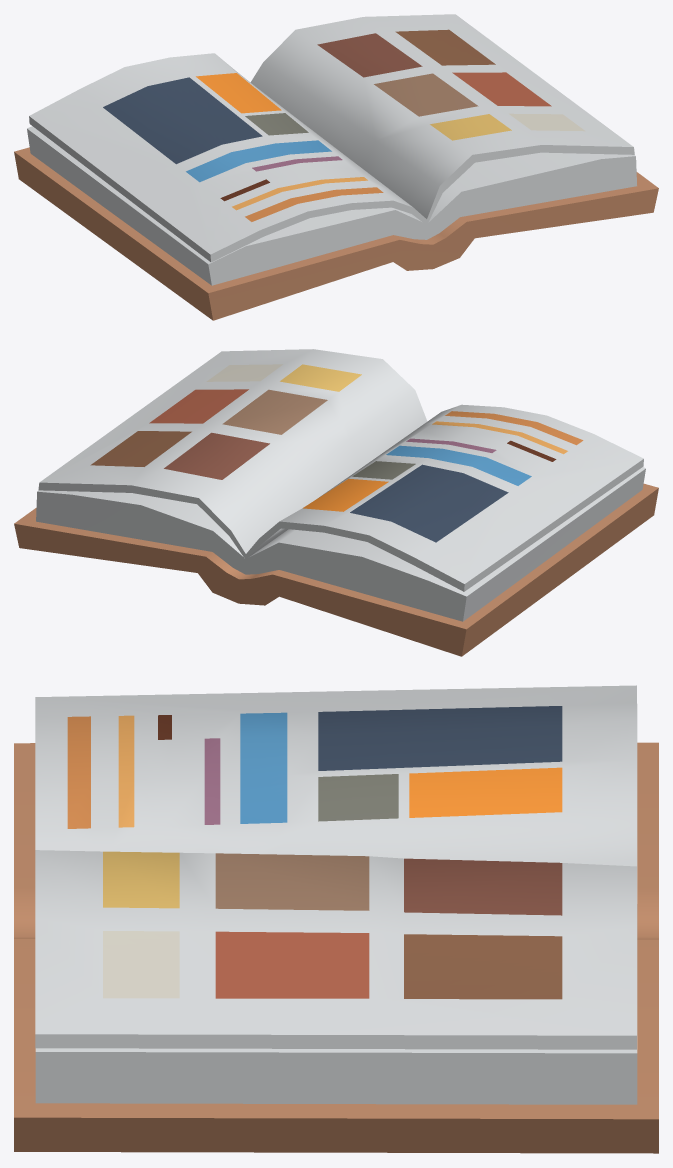
Rendered from Book_Open_B.fbx.
3 renders of one model, top to bottom at view 1: azimuth 30°, elevation 25°; view 2: azimuth 150°, elevation 25°; view 3: azimuth 270°, elevation 25°, orthographic. The views are drawn at different scales.
Parts seen in each view (by area): view 1: Book_Open_B; view 2: Book_Open_B; view 3: Book_Open_B.
Part boxes in pixels (x1=…): Book_Open_B: x1=14, y1=14, x2=658, y2=320; Book_Open_B: x1=14, y1=349, x2=658, y2=656; Book_Open_B: x1=14, y1=685, x2=658, y2=1153.
Bounding box in the file's own units: 43.03 × 8.93 × 31.81.
